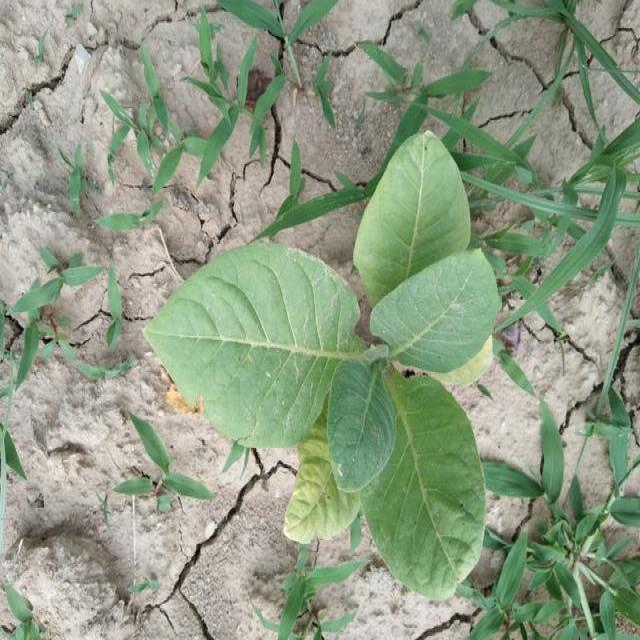crop: (146, 108, 509, 606)
